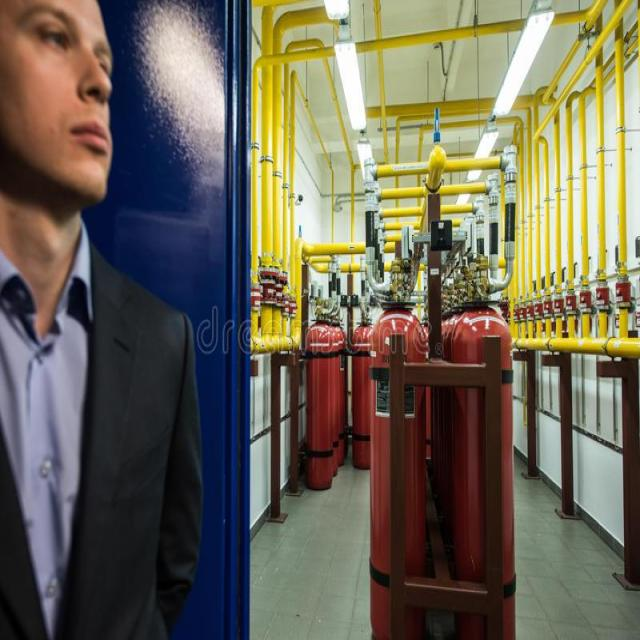fire_extinguisher: (442, 280, 520, 639), (362, 279, 431, 639), (298, 293, 336, 496), (348, 314, 378, 466)
